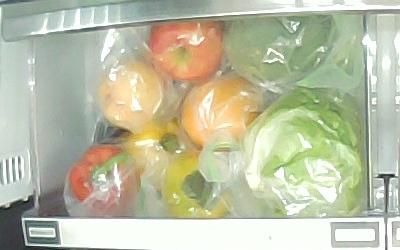apple_vinyl: (147, 19, 227, 83)
broccoli_vinyl: (224, 13, 332, 86)
grapefruit_vinyl: (181, 78, 259, 148)
lettuce_vinyl: (245, 94, 361, 216)
paprika_vinyl: (69, 144, 140, 216), (127, 120, 191, 187)
peach_vinyl: (99, 61, 163, 130)
persimmon_vinyl: (164, 150, 236, 217)
